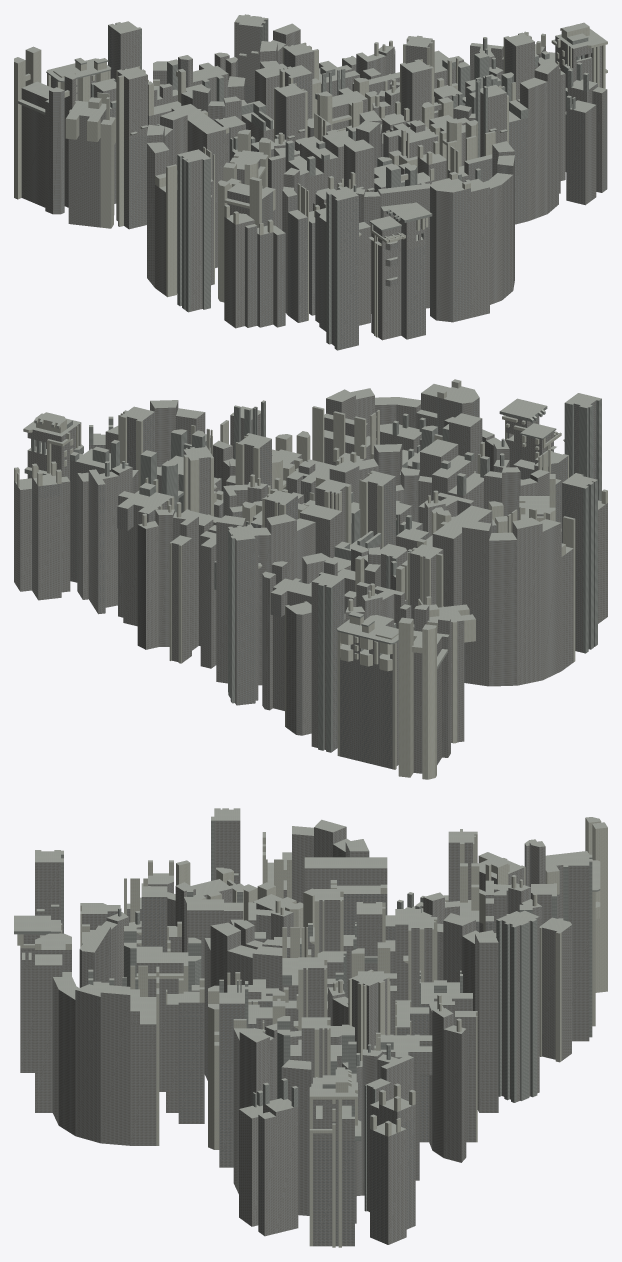
File: big_town.obj
The picture shows the model from 3 angles, top to bottom: view 1: azimuth 30°, elevation 25°; view 2: azimuth 150°, elevation 25°; view 3: azimuth 270°, elevation 25°; orthographic projection. The views are drawn at different scales.
Visible parts, largest first — view 1: 9201; view 2: 9201; view 3: 9201.
Boxes of the visible parts, <box> form: 9201: <box>14,14,607,350</box>; 9201: <box>14,379,607,779</box>; 9201: <box>14,808,607,1247</box>.
Bounding box in the file's own units: 2542 × 768 × 2353.
Materials: 9 (9 with a texture image).
